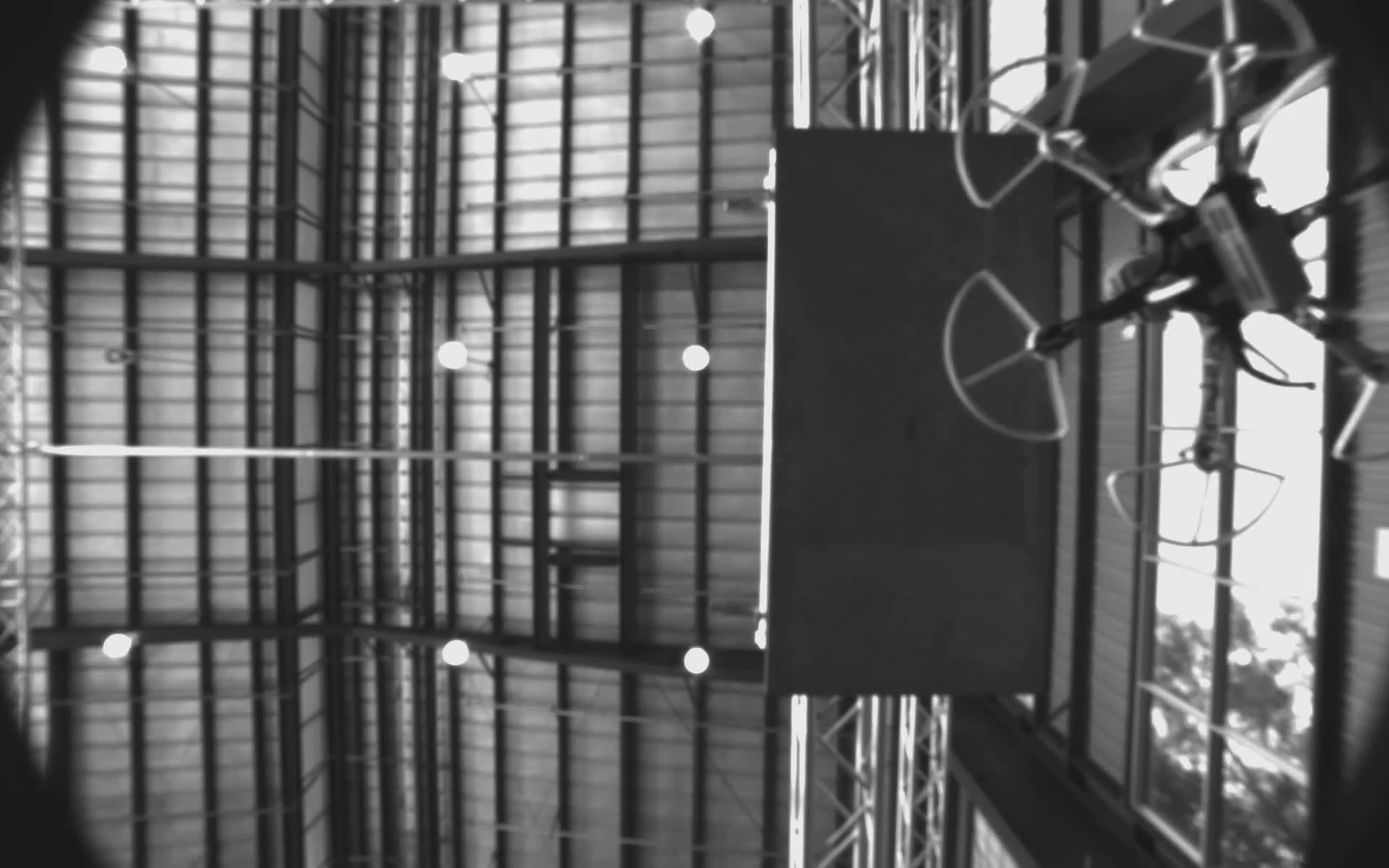drone: (955, 0, 1389, 558)
